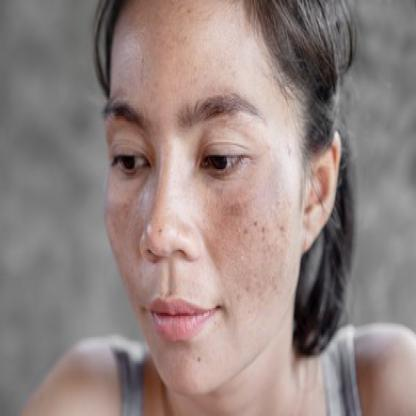darkspot: (210, 184, 288, 298), (102, 202, 139, 255), (153, 221, 163, 239), (194, 353, 204, 366)
